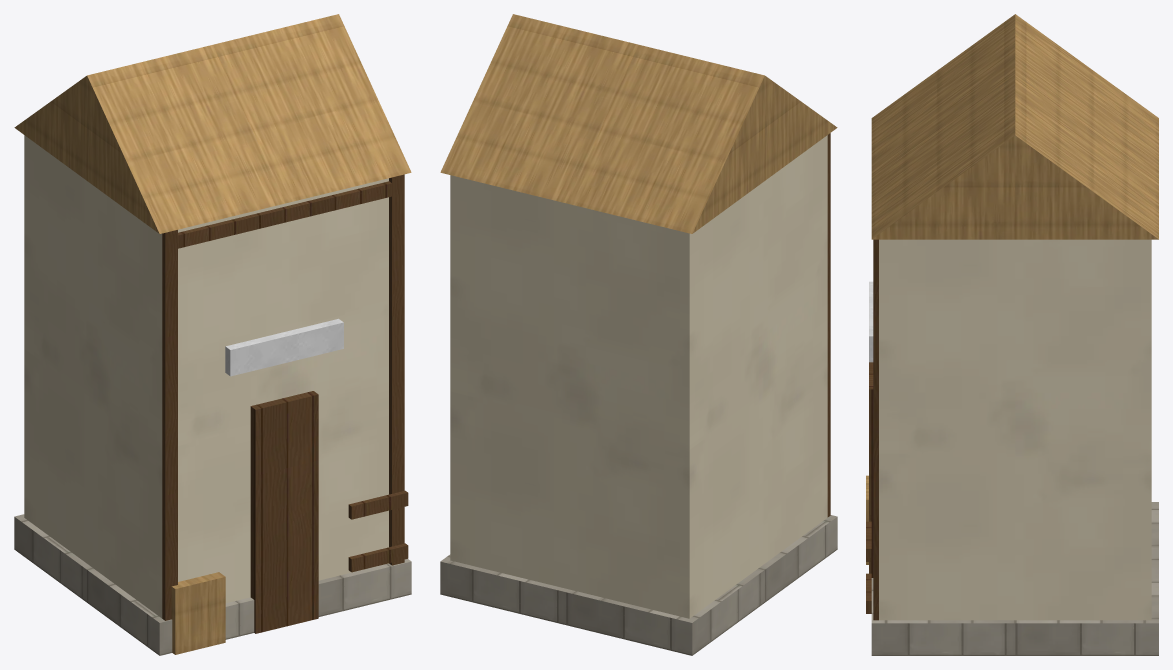
The model's file is category.staking.t3.glb.
The picture shows the model from 3 angles, left to right: view 1: azimuth 30°, elevation 25°; view 2: azimuth 150°, elevation 25°; view 3: azimuth 270°, elevation 25°; orthographic projection.
Visible parts, largest first — view 1: building.category.staking.t3; view 2: building.category.staking.t3; view 3: building.category.staking.t3.
Boxes of the visible parts, <box> form: building.category.staking.t3: <box>14,14,411,655</box>; building.category.staking.t3: <box>440,14,837,655</box>; building.category.staking.t3: <box>866,14,1158,655</box>.
Bounding box in the file's own units: 2 × 4 × 2.04.
Materials: 5 (5 with a texture image).
